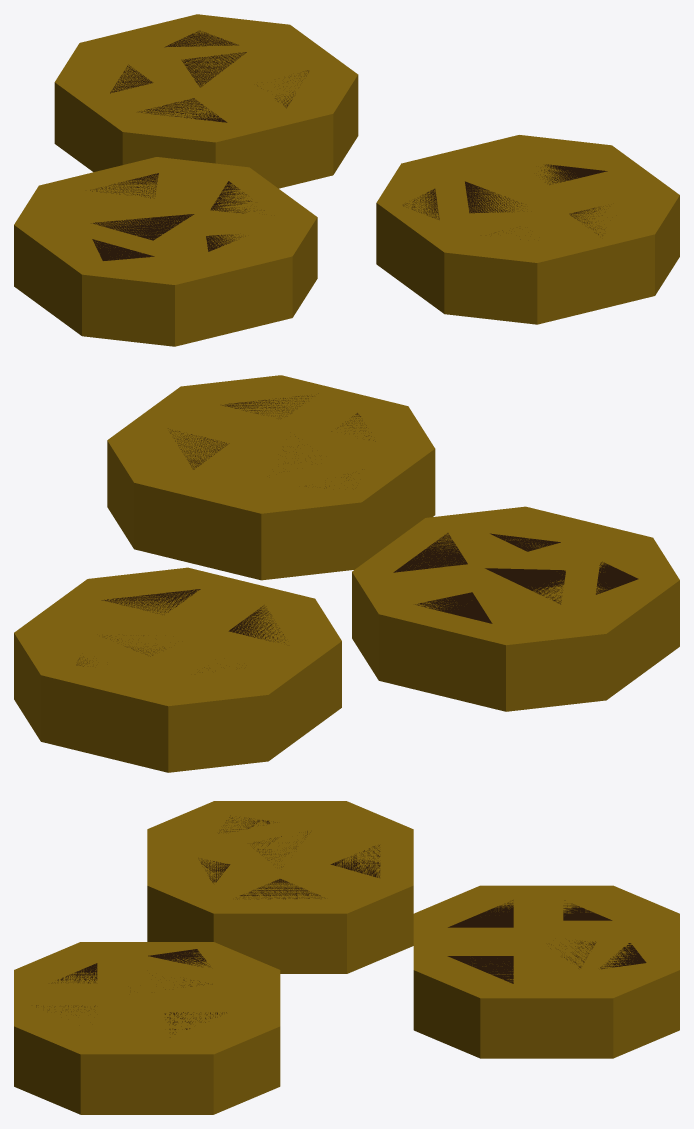
The model's file is inv_worm_crunchies_2.obj.
The picture shows the model from 3 angles, top to bottom: view 1: azimuth 30°, elevation 25°; view 2: azimuth 150°, elevation 25°; view 3: azimuth 270°, elevation 25°; orthographic projection. The views are drawn at different scales.
Size of the model in its own units: 0.2812 by 0.0312 by 0.3125.
